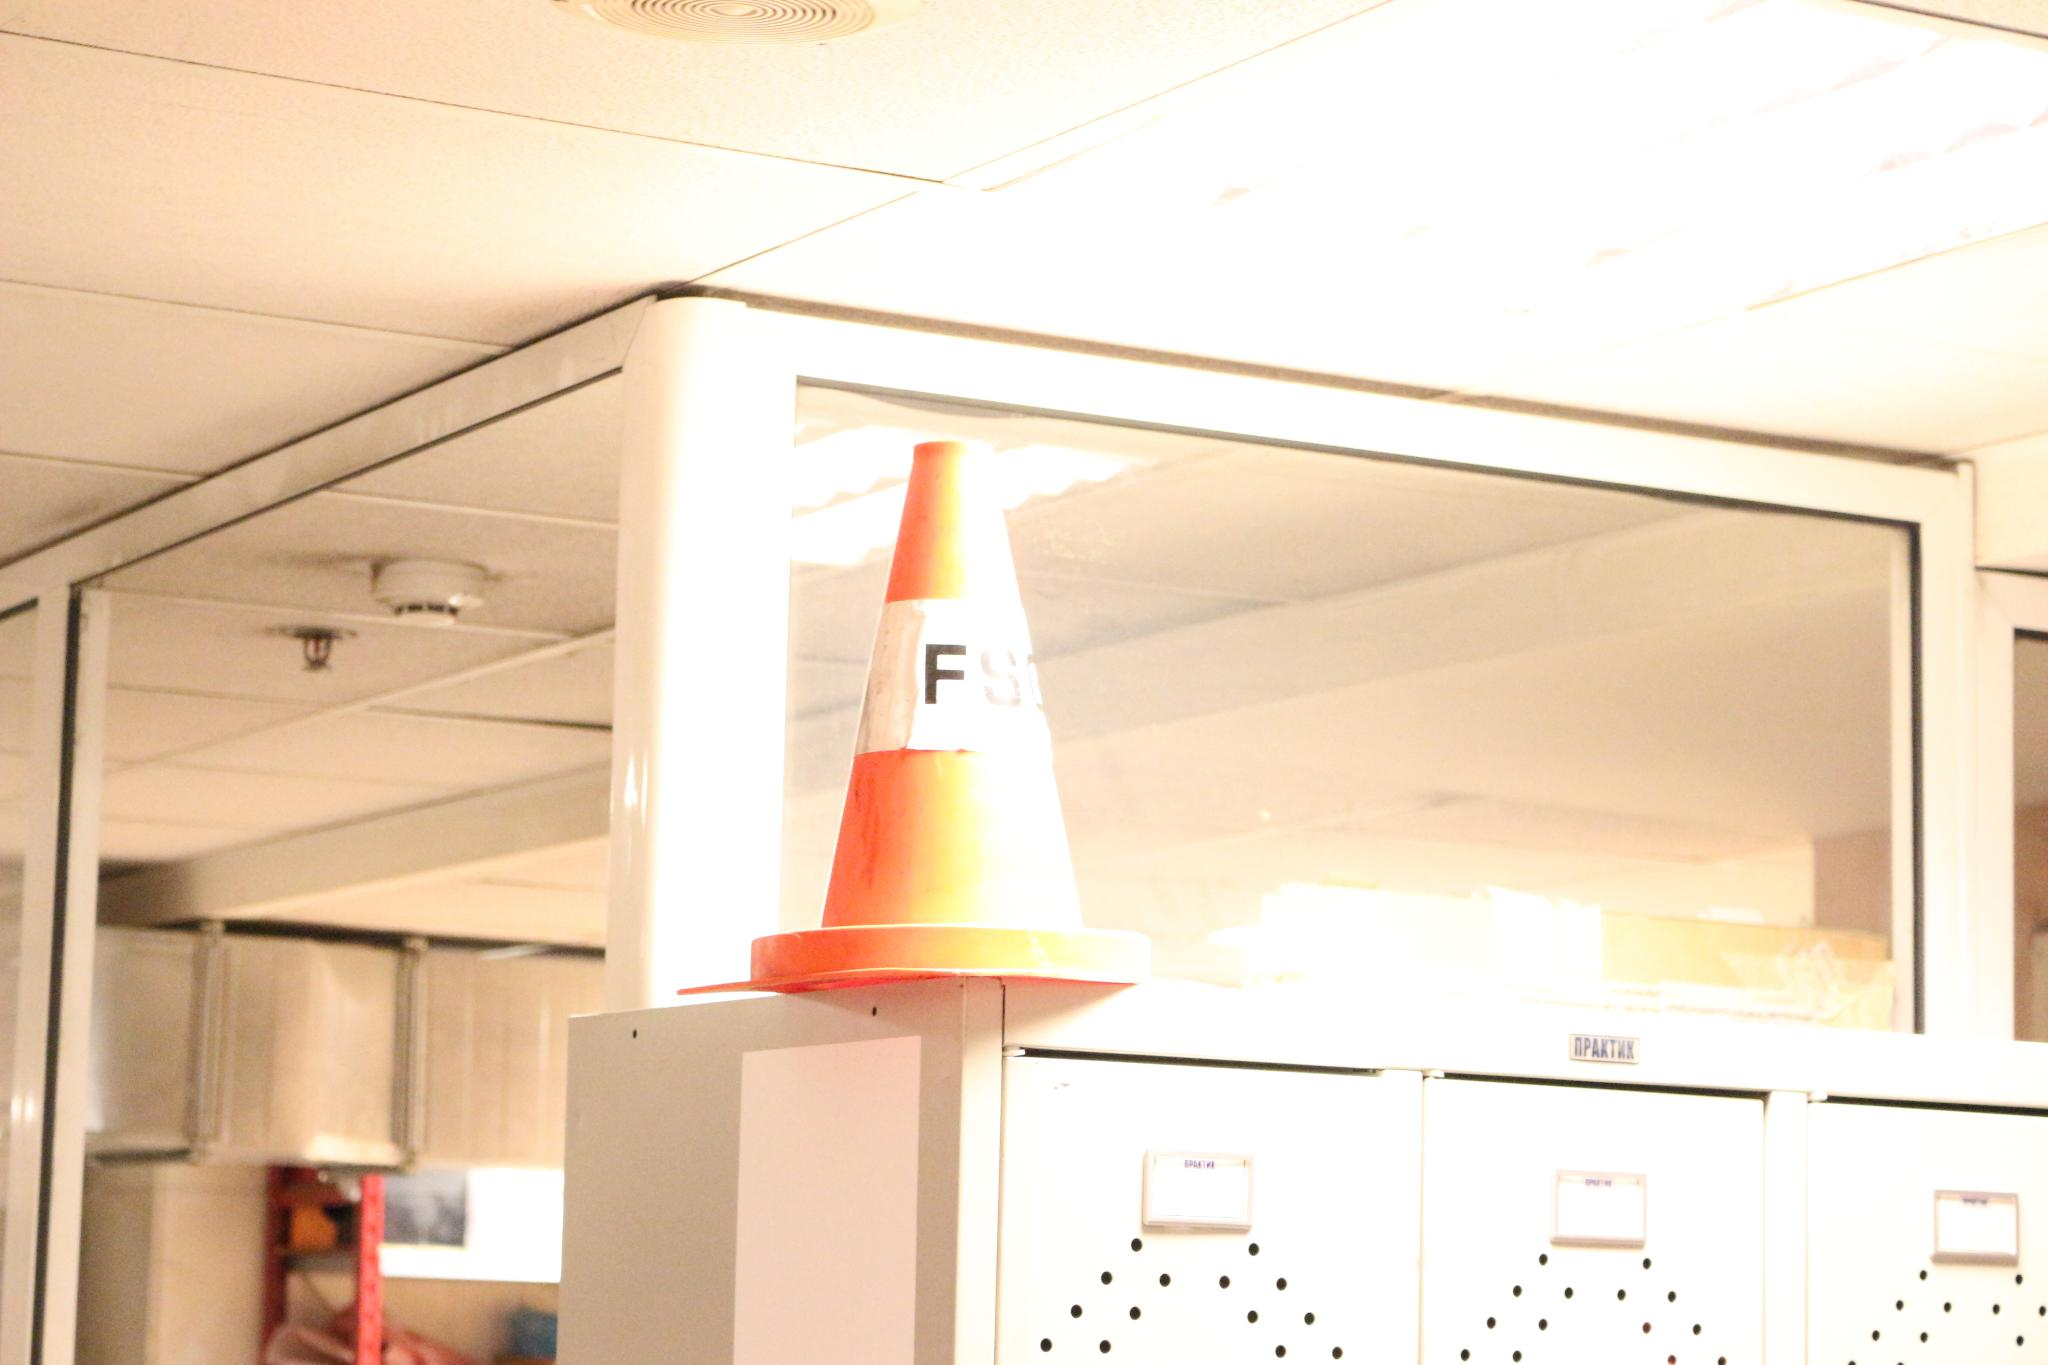Orange_Cone: (748, 424, 1188, 999)
